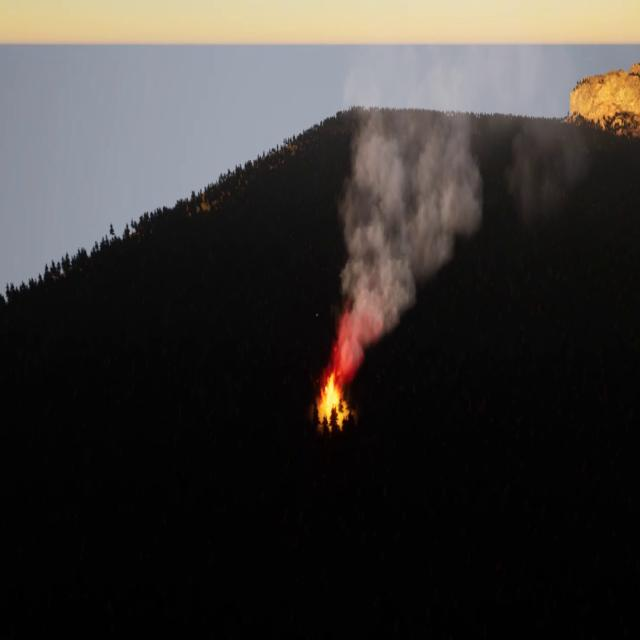fire: (316, 373, 348, 424)
smoke: (330, 54, 586, 372)
